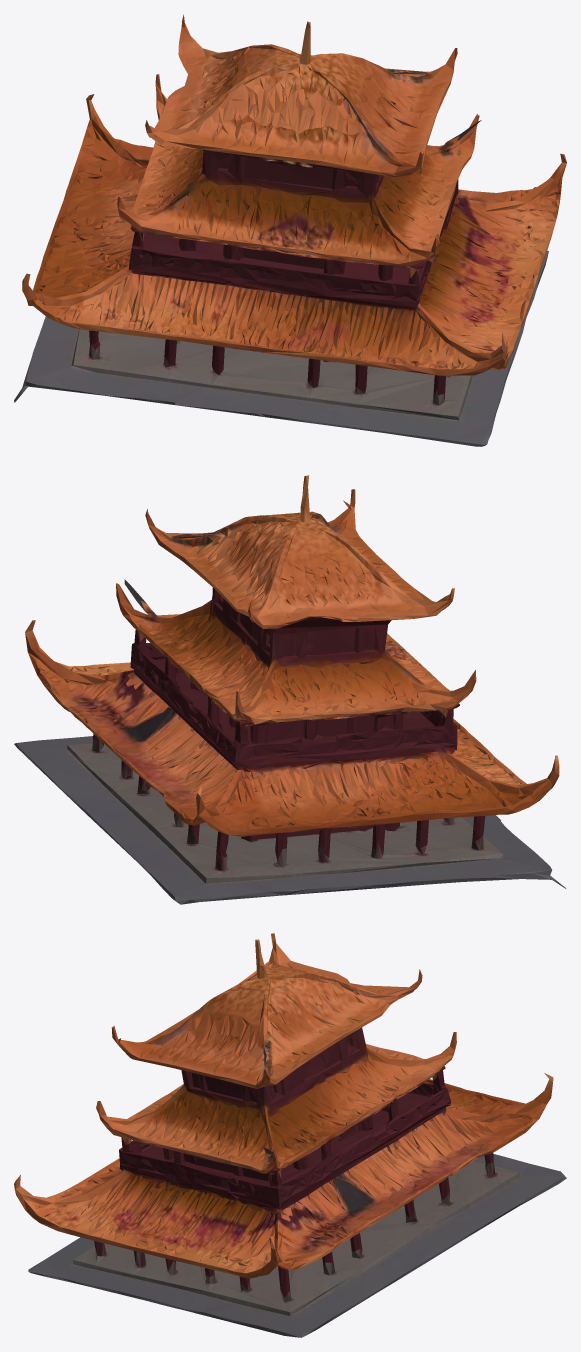
File: pavilion-mobile.glb
3 renders of one model, top to bottom at view 1: azimuth 30°, elevation 25°; view 2: azimuth 150°, elevation 25°; view 3: azimuth 270°, elevation 25°, orthographic. The views are drawn at different scales.
Parts seen in each view (by area): view 1: geometry_0; view 2: geometry_0; view 3: geometry_0.
Boxes of the visible parts, <box> form: geometry_0: <box>14,14,566,446</box>; geometry_0: <box>14,475,565,904</box>; geometry_0: <box>14,933,566,1337</box>.
Size of the model in its own units: 0.959 by 0.5838 by 0.9355.
Materials: 1 (1 with a texture image).
